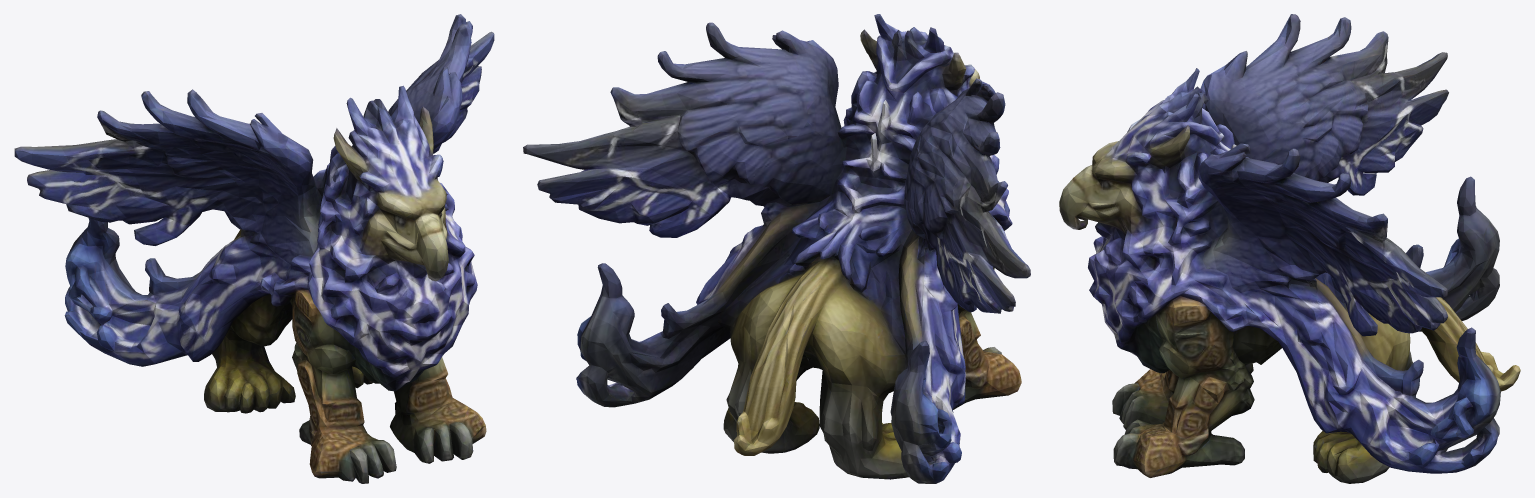
File: skyrend__tempestGryphon.glb
The picture shows the model from 3 angles, left to right: view 1: azimuth 30°, elevation 25°; view 2: azimuth 150°, elevation 25°; view 3: azimuth 270°, elevation 25°; orthographic projection. The views are drawn at different scales.
Parts seen in each view (by area): view 1: world; view 2: world; view 3: world.
Boxes of the visible parts, x1,y1,x2,y2 form: world: (14,14,494,483); world: (523,14,1030,483); world: (1059,14,1520,483).
Bounding box in the file's own units: 1 × 0.7018 × 0.8175.
1 material, 1 textured.
